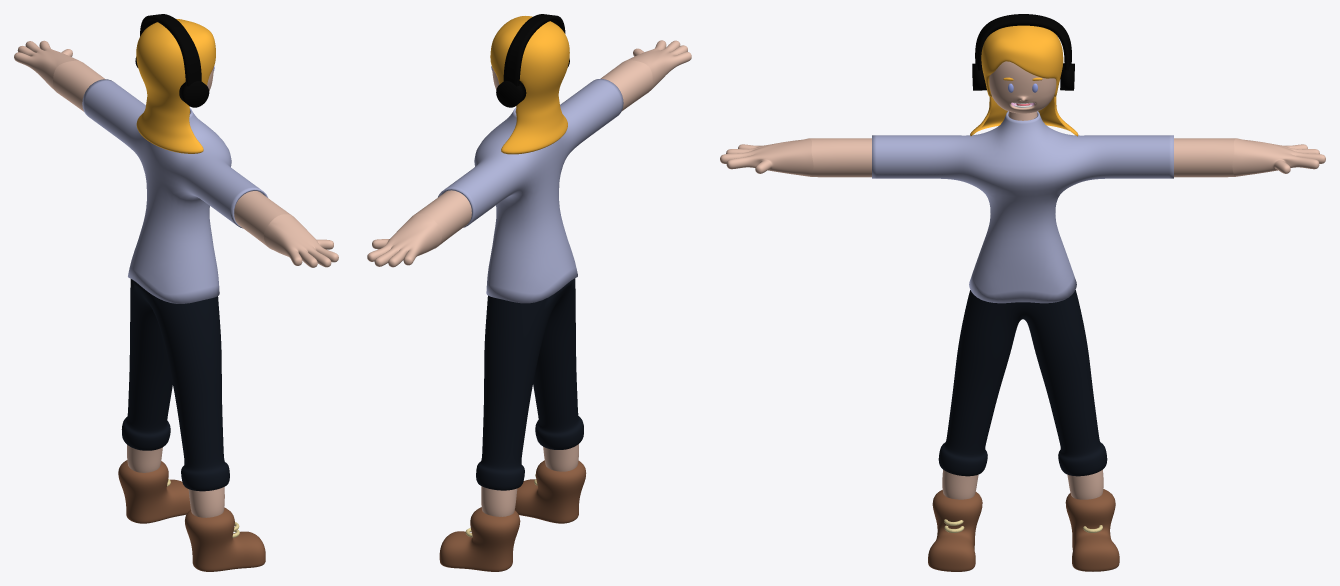
The model's file is female2.fbx.
3 views of the same model, side by side, from view 1: azimuth 30°, elevation 25°; view 2: azimuth 150°, elevation 25°; view 3: azimuth 270°, elevation 25° (orthographic).
Visible parts, largest first — view 1: blouse, trousers, body.001, hair, shoe_l, shoe_r, 柱体; view 2: blouse, trousers, body.001, hair, shoe_r, shoe_l, 柱体; view 3: blouse, trousers, body.001, hair, shoe_r, shoe_l, head, 柱体.
Boxes of the visible parts, left/top/right/bottom form: blouse: left=82, top=79, right=267, bottom=303; trousers: left=121, top=279, right=229, bottom=491; body.001: left=14, top=40, right=338, bottom=517; hair: left=136, top=19, right=215, bottom=153; shoe_l: left=185, top=507, right=265, bottom=571; shoe_r: left=118, top=460, right=190, bottom=523; 柱体: left=135, top=14, right=209, bottom=107; blouse: left=438, top=78, right=623, bottom=303; trousers: left=476, top=278, right=583, bottom=490; body.001: left=367, top=40, right=691, bottom=516; hair: left=490, top=16, right=569, bottom=154; shoe_r: left=439, top=507, right=520, bottom=571; shoe_l: left=515, top=460, right=586, bottom=523; 柱体: left=496, top=14, right=569, bottom=107; blouse: left=872, top=111, right=1173, bottom=303; trousers: left=938, top=290, right=1107, bottom=476; body.001: left=720, top=111, right=1325, bottom=499; hair: left=970, top=25, right=1078, bottom=136; shoe_r: left=1065, top=489, right=1119, bottom=571; shoe_l: left=928, top=490, right=982, bottom=571; head: left=989, top=61, right=1056, bottom=113; 柱体: left=972, top=14, right=1074, bottom=90.
Size of the model in its own units: 51.95 by 286 by 297.
